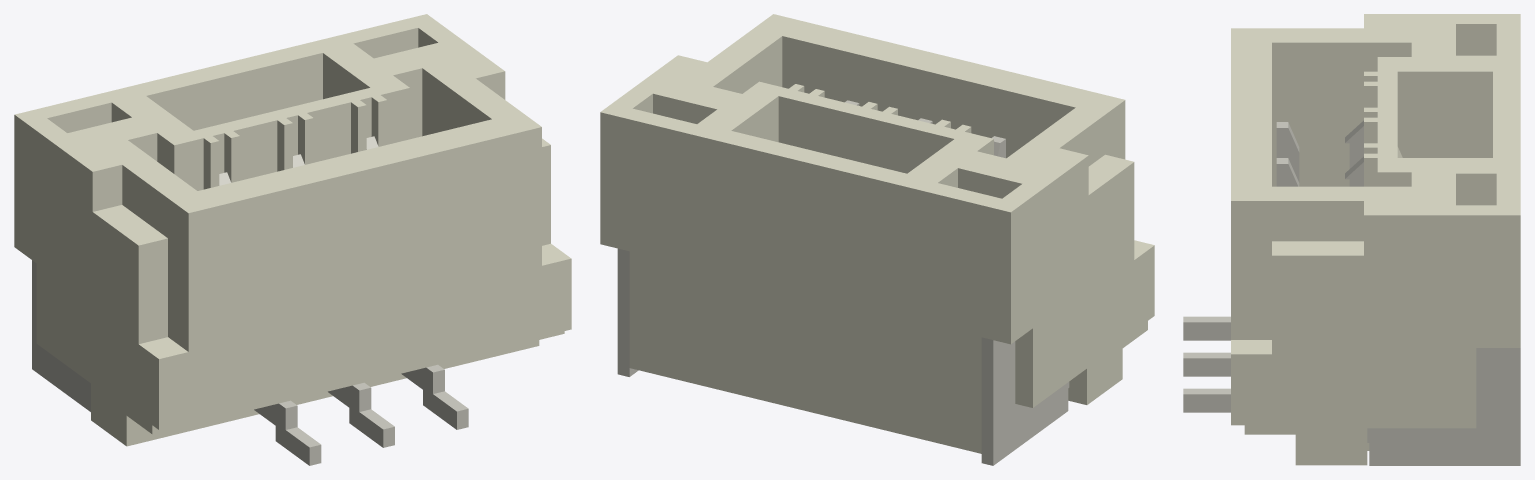
Rendered from kc-jst_gh_bm03b-ghs-tbt_1x03-1mp_p1.25mm_vertical.glb.
The picture shows the model from 3 angles, left to right: view 1: azimuth 30°, elevation 25°; view 2: azimuth 150°, elevation 25°; view 3: azimuth 270°, elevation 25°; orthographic projection.
Visible parts, largest first — view 1: 0.75_0.75_0.5833333333333334_0, 0.6666666666666666_0.6666666666666666_0.5833333333333334_0.8; view 2: 0.75_0.75_0.5833333333333334_0, 0.6666666666666666_0.6666666666666666_0.5833333333333334_0.8; view 3: 0.75_0.75_0.5833333333333334_0, 0.6666666666666666_0.6666666666666666_0.5833333333333334_0.8.
Part boxes in pixels (left/top/right/bottom): 0.75_0.75_0.5833333333333334_0: left=14, top=14, right=571, bottom=446; 0.6666666666666666_0.6666666666666666_0.5833333333333334_0.8: left=32, top=136, right=468, bottom=465; 0.75_0.75_0.5833333333333334_0: left=600, top=14, right=1154, bottom=453; 0.6666666666666666_0.6666666666666666_0.5833333333333334_0.8: left=617, top=100, right=1069, bottom=465; 0.75_0.75_0.5833333333333334_0: left=1231, top=14, right=1520, bottom=465; 0.6666666666666666_0.6666666666666666_0.5833333333333334_0.8: left=1183, top=120, right=1520, bottom=465.
Size of the model in its own units: 0.7 by 0.42 by 0.4951.
